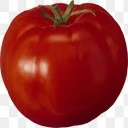tomato: (0, 3, 128, 128)
